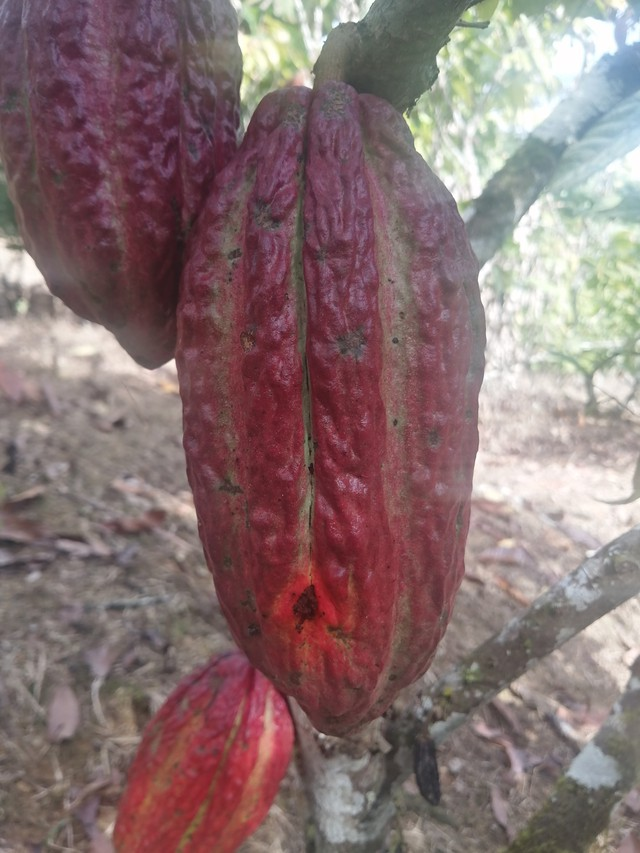carmenta foraseminis: (172, 80, 489, 743), (2, 7, 244, 363), (105, 649, 291, 844)
